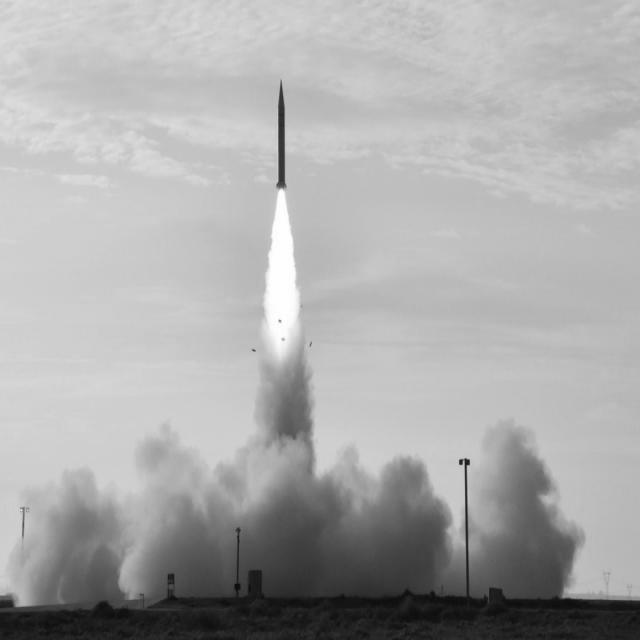missile: (270, 82, 289, 197)
